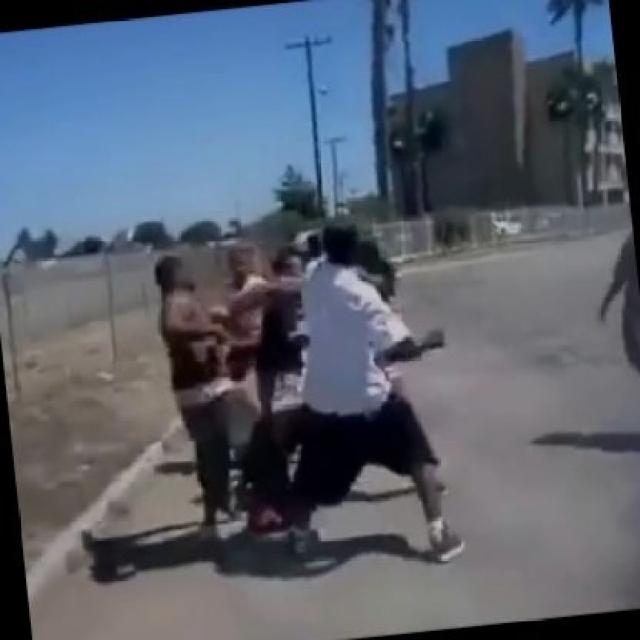fight: (101, 194, 497, 606)
